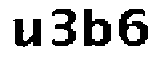3: (48, 5, 78, 51)
6: (116, 8, 150, 48)
b: (82, 7, 112, 49)
u: (10, 17, 43, 49)
